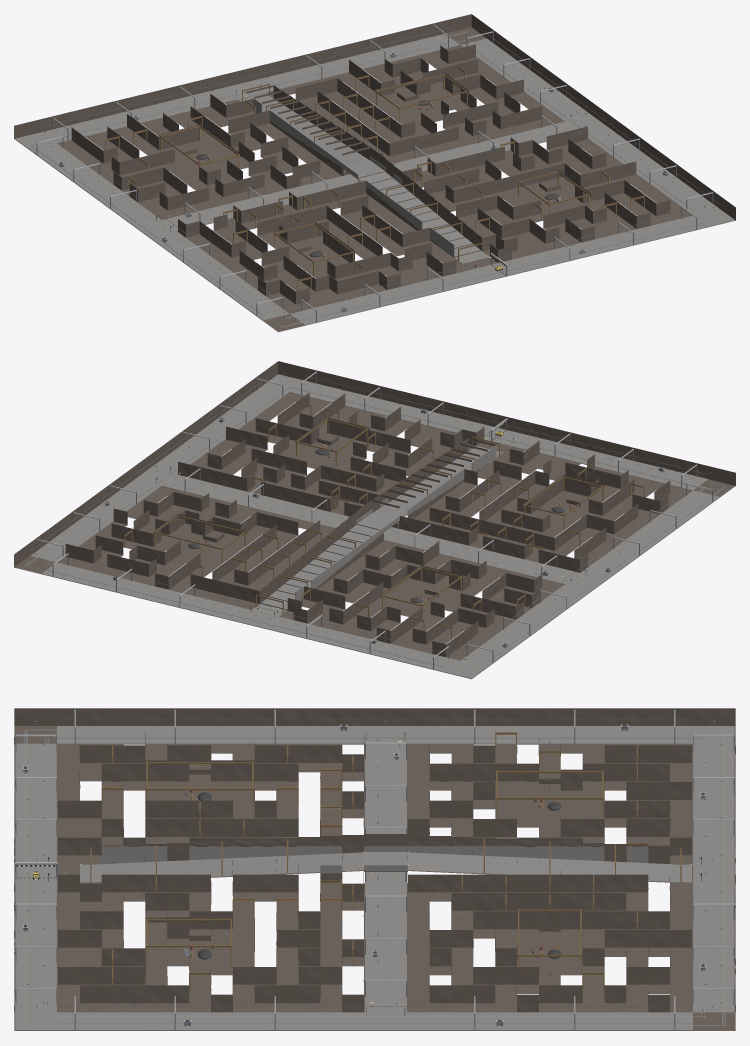
Rendered from mine_scene.glb.
3 renders of one model, top to bottom at view 1: azimuth 30°, elevation 25°; view 2: azimuth 150°, elevation 25°; view 3: azimuth 270°, elevation 25°, orthographic. The views are drawn at different scales.
Parts seen in each view (by area): view 1: mine_rock, mine_concrete, mine_rail, mine_steel_dark, mine_timber_d, mine_timber, mine_steel; view 2: mine_rock, mine_concrete, mine_rail, mine_steel_dark, mine_timber_d, mine_timber, mine_steel; view 3: mine_rock, mine_concrete, mine_rail, mine_steel_dark, mine_timber_d, mine_steel, mine_timber.
Part boxes in pixels (left/top/right/bottom): mine_rock: left=14, top=14, right=735, bottom=332; mine_concrete: left=15, top=27, right=734, bottom=325; mine_rail: left=24, top=31, right=725, bottom=327; mine_steel_dark: left=31, top=24, right=718, bottom=322; mine_timber_d: left=105, top=65, right=644, bottom=281; mine_timber: left=105, top=65, right=644, bottom=290; mine_steel: left=37, top=24, right=713, bottom=310; mine_rock: left=14, top=361, right=735, bottom=679; mine_concrete: left=15, top=374, right=734, bottom=678; mine_rail: left=24, top=378, right=725, bottom=674; mine_steel_dark: left=31, top=371, right=718, bottom=669; mine_timber_d: left=124, top=402, right=644, bottom=628; mine_timber: left=124, top=401, right=644, bottom=639; mine_steel: left=36, top=371, right=713, bottom=658; mine_rock: left=14, top=708, right=735, bottom=1030; mine_concrete: left=15, top=726, right=734, bottom=1030; mine_rail: left=24, top=729, right=725, bottom=1026; mine_steel_dark: left=15, top=709, right=734, bottom=1029; mine_timber_d: left=90, top=732, right=681, bottom=978; mine_steel: left=14, top=710, right=734, bottom=1014; mine_timber: left=90, top=732, right=681, bottom=989.
Bounding box in the file's own units: 231 × 11.46 × 231.
